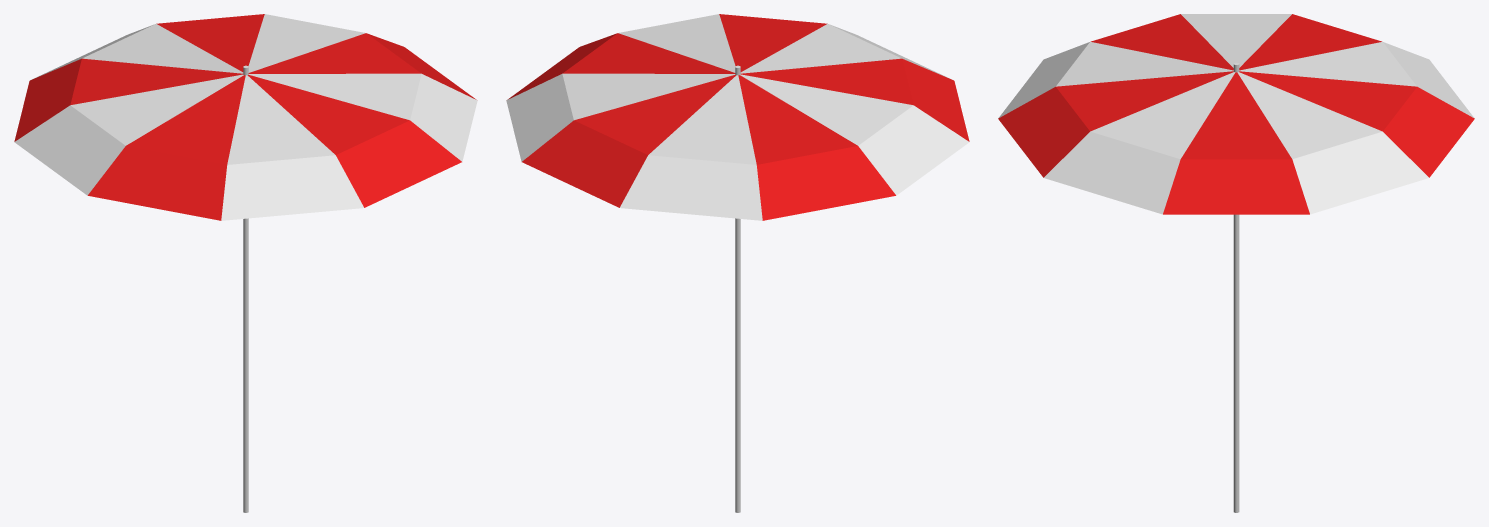
The model's file is umbrella.fbx.
The picture shows the model from 3 angles, left to right: view 1: azimuth 30°, elevation 25°; view 2: azimuth 150°, elevation 25°; view 3: azimuth 270°, elevation 25°; orthographic projection.
Visible parts, largest first — view 1: Cylinder; view 2: Cylinder; view 3: Cylinder.
Boxes of the visible parts, box(x1,y1,x2,y2) form: Cylinder: box(14, 14, 477, 512); Cylinder: box(506, 14, 969, 512); Cylinder: box(998, 14, 1474, 512).
Size of the model in its own units: 1008 by 1099 by 1060.
